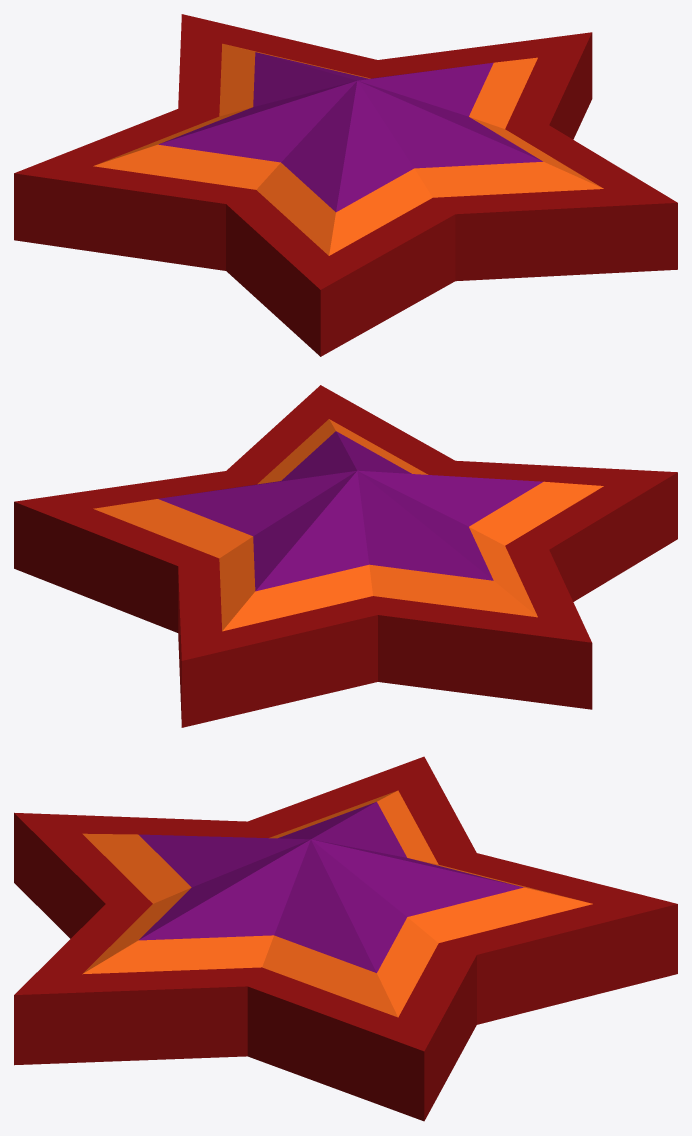
The model's file is star2.FBX.
3 views of the same model, one above another, from view 1: azimuth 30°, elevation 25°; view 2: azimuth 150°, elevation 25°; view 3: azimuth 270°, elevation 25° (orthographic). The views are drawn at different scales.
Parts seen in each view (by area): view 1: Star002, Star001; view 2: Star002, Star001; view 3: Star002, Star001.
Boxes of the visible parts, x1,y1,x2,y2 form: Star002: (14, 14, 677, 356); Star001: (93, 43, 603, 255); Star002: (14, 385, 677, 727); Star001: (93, 419, 603, 631); Star002: (14, 756, 677, 1121); Star001: (82, 790, 592, 1017).
Bounding box in the file's own units: 126 × 39.76 × 120.
